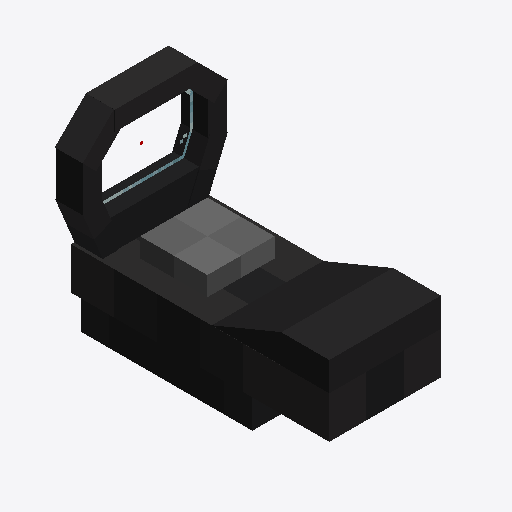
A Minecraft block model of 23 cuboids, rendered isometrically (azimuth 45°, elevation 35.3°) with the resource pack's own textures.
Visible parts, largest first — holographic_sight (×13).
Boxes of the visible parts, box(x1,y1,x2,y2) form: holographic_sight (×13): box(55, 46, 440, 441).
Size of the model in its own units: 0.9818 by 1.32 by 1.75.